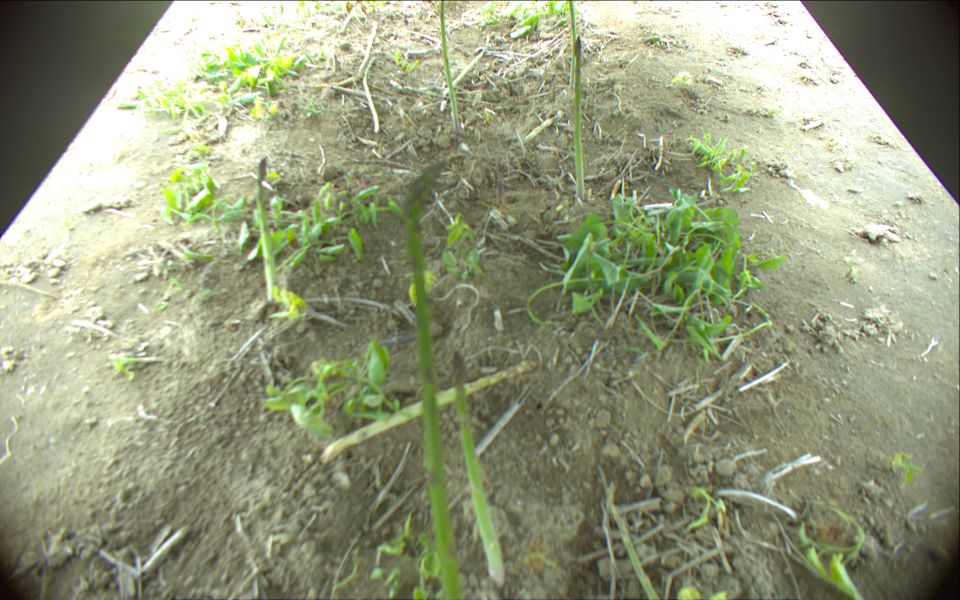aspa: (322, 356, 535, 462), (405, 158, 456, 599), (451, 351, 510, 585), (604, 491, 665, 598), (251, 155, 278, 300), (329, 23, 380, 90), (438, 1, 464, 130), (438, 48, 483, 106), (574, 32, 588, 201), (397, 84, 493, 105), (363, 58, 382, 135), (568, 1, 577, 89)
